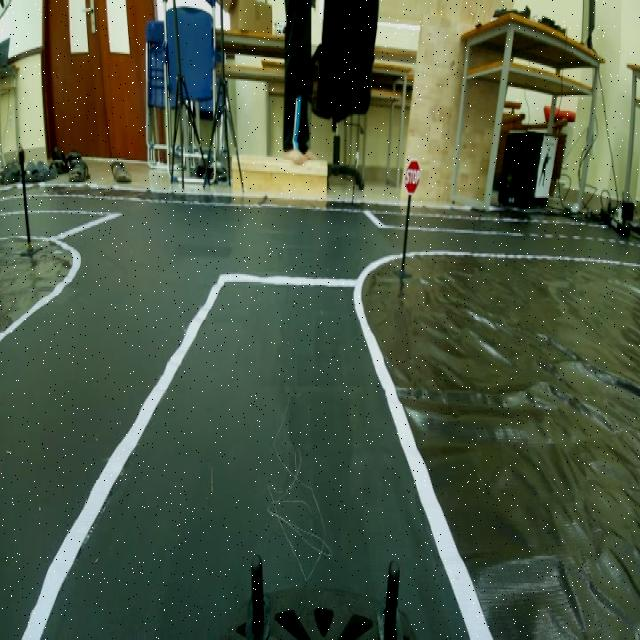stop: (404, 157, 423, 195)
